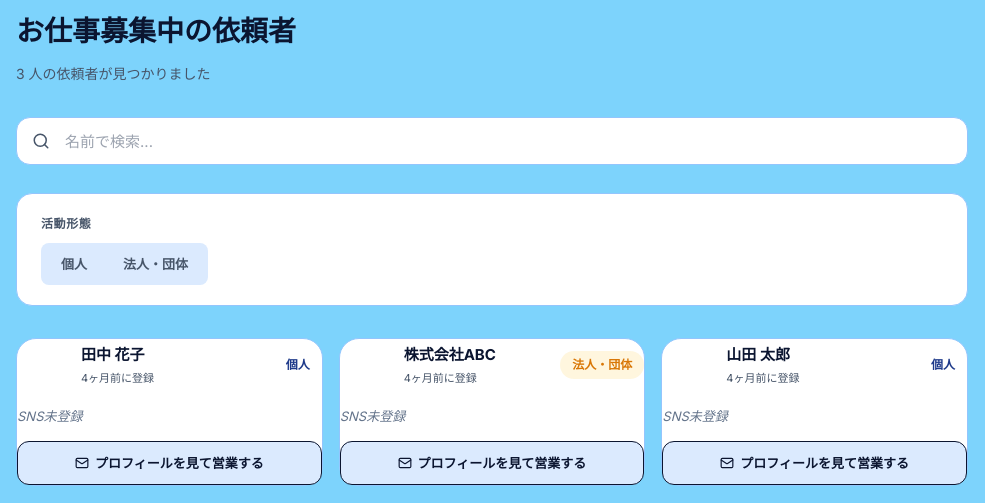
Test: ClientSearchClient › [happy] 名前検索で一致するユーザーだけ表示される
The image size is (985, 503).
Type "田中" into the field with placeholder "名前で検索...".
click(492, 141); type("田中")  # box [16,117,968,165]
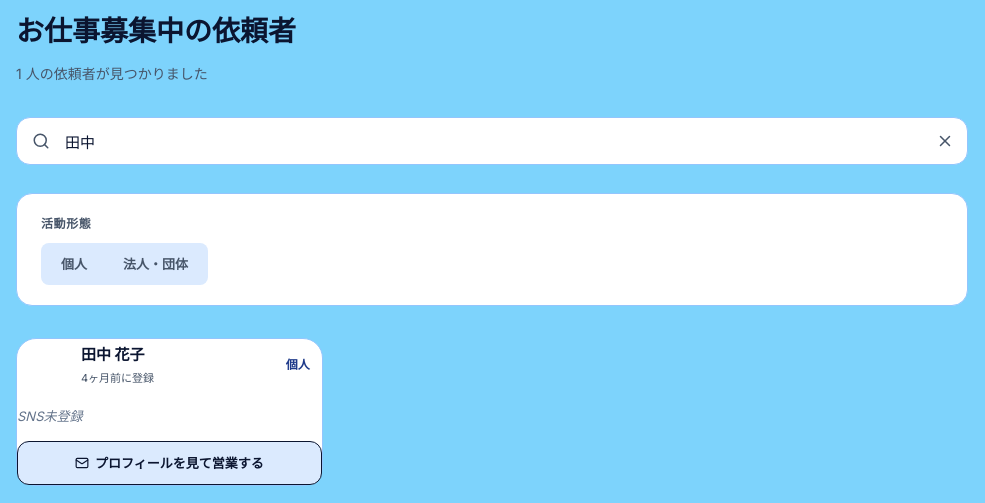
Expected: the text "田中 花子" is shown, [81,345,145,364]
Expected: the text "株式会社ABC" is gone
Expected: the text "山田 太郎" is gone
